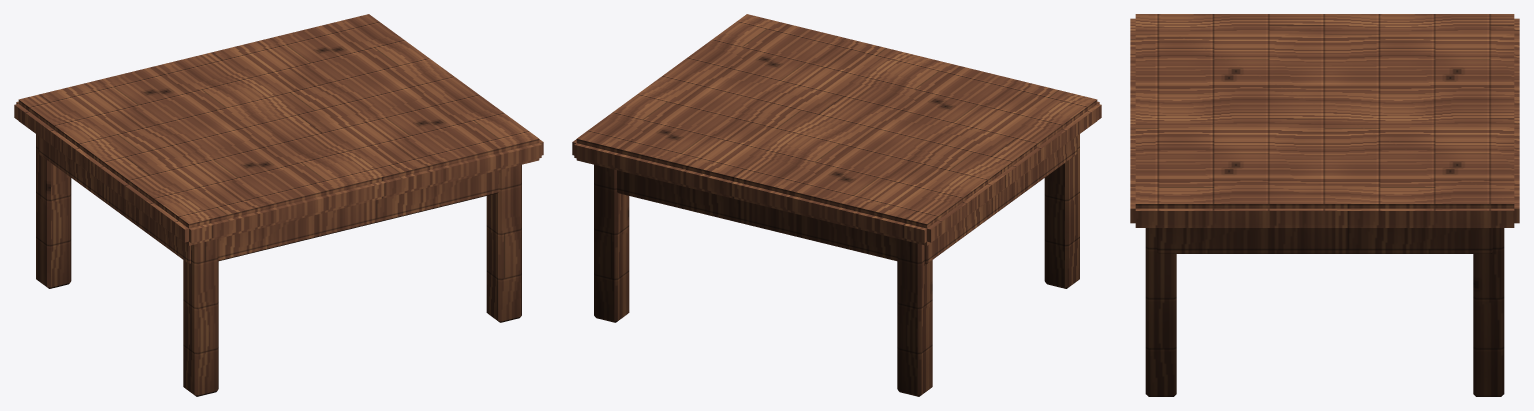
The model's file is table.glb.
3 renders of one model, left to right at view 1: azimuth 30°, elevation 25°; view 2: azimuth 150°, elevation 25°; view 3: azimuth 270°, elevation 25°, orthographic. The views are drawn at different scales.
Visible parts, largest first — view 1: table; view 2: table; view 3: table.
Part boxes in pixels (<box>): table: <box>14,14,543,396</box>; table: <box>572,14,1101,396</box>; table: <box>1130,14,1519,396</box>.
Bounding box in the file's own units: 1.04 × 0.502 × 0.88.
3 materials, 3 textured.
